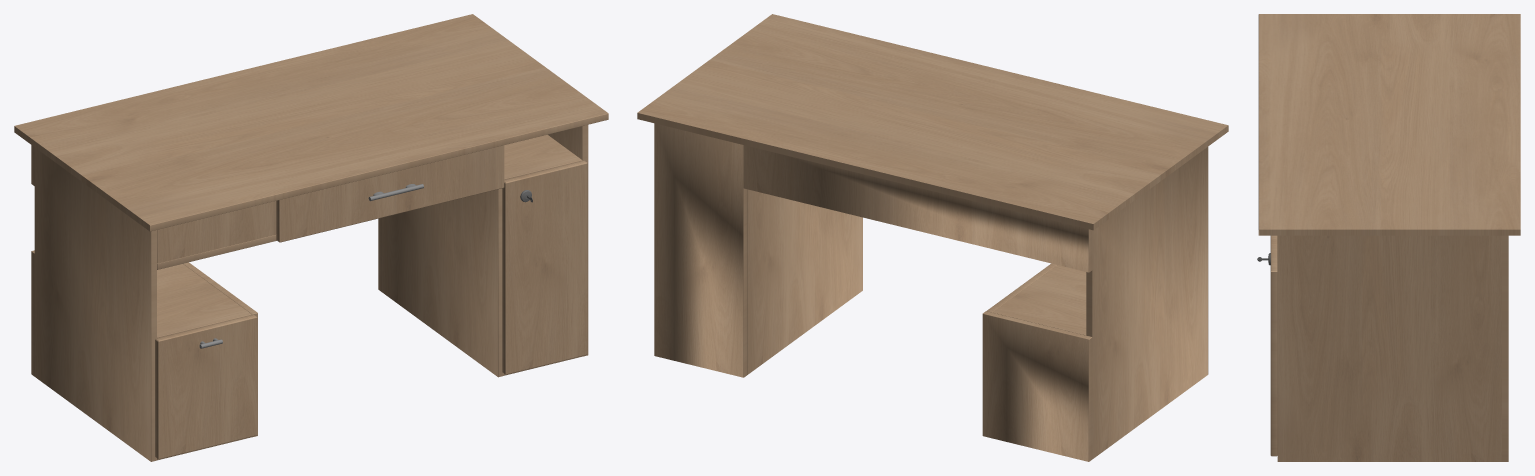
File: biurkoSzefa.fbx
The picture shows the model from 3 angles, left to right: view 1: azimuth 30°, elevation 25°; view 2: azimuth 150°, elevation 25°; view 3: azimuth 270°, elevation 25°; orthographic projection. The views are drawn at different scales.
Visible parts, largest first — view 1: 12212_Bird_v1_l2; view 2: 12212_Bird_v1_l2; view 3: 12212_Bird_v1_l2.
Part boxes in pixels (x1=…): 12212_Bird_v1_l2: x1=14, y1=14, x2=608, y2=461; 12212_Bird_v1_l2: x1=637, y1=14, x2=1228, y2=461; 12212_Bird_v1_l2: x1=1257, y1=14, x2=1520, y2=461.
Bounding box in the file's own units: 136 × 70 × 70.41.
Materials: 4 (2 with a texture image).
